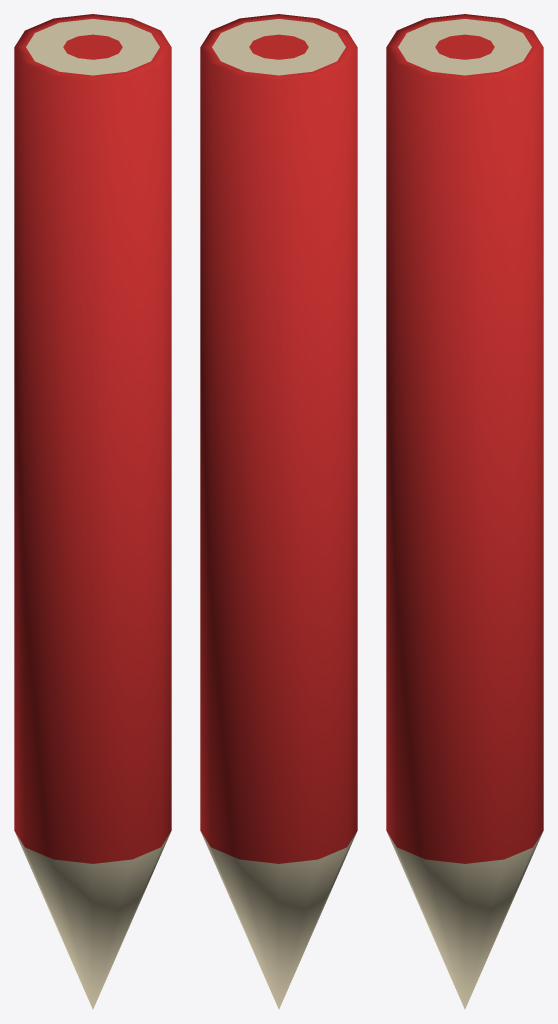
Rendered from Lapis2.fbx.
The picture shows the model from 3 angles, left to right: view 1: azimuth 30°, elevation 25°; view 2: azimuth 150°, elevation 25°; view 3: azimuth 270°, elevation 25°; orthographic projection.
Parts seen in each view (by area): view 1: Lapis; view 2: Lapis; view 3: Lapis.
Part boxes in pixels (box(x1,y1,x2,y2)): Lapis: box(14, 14, 171, 1009); Lapis: box(200, 14, 357, 1009); Lapis: box(386, 14, 543, 1009).
Size of the model in its own units: 76.18 by 515 by 76.18.
1 material, 1 textured.
